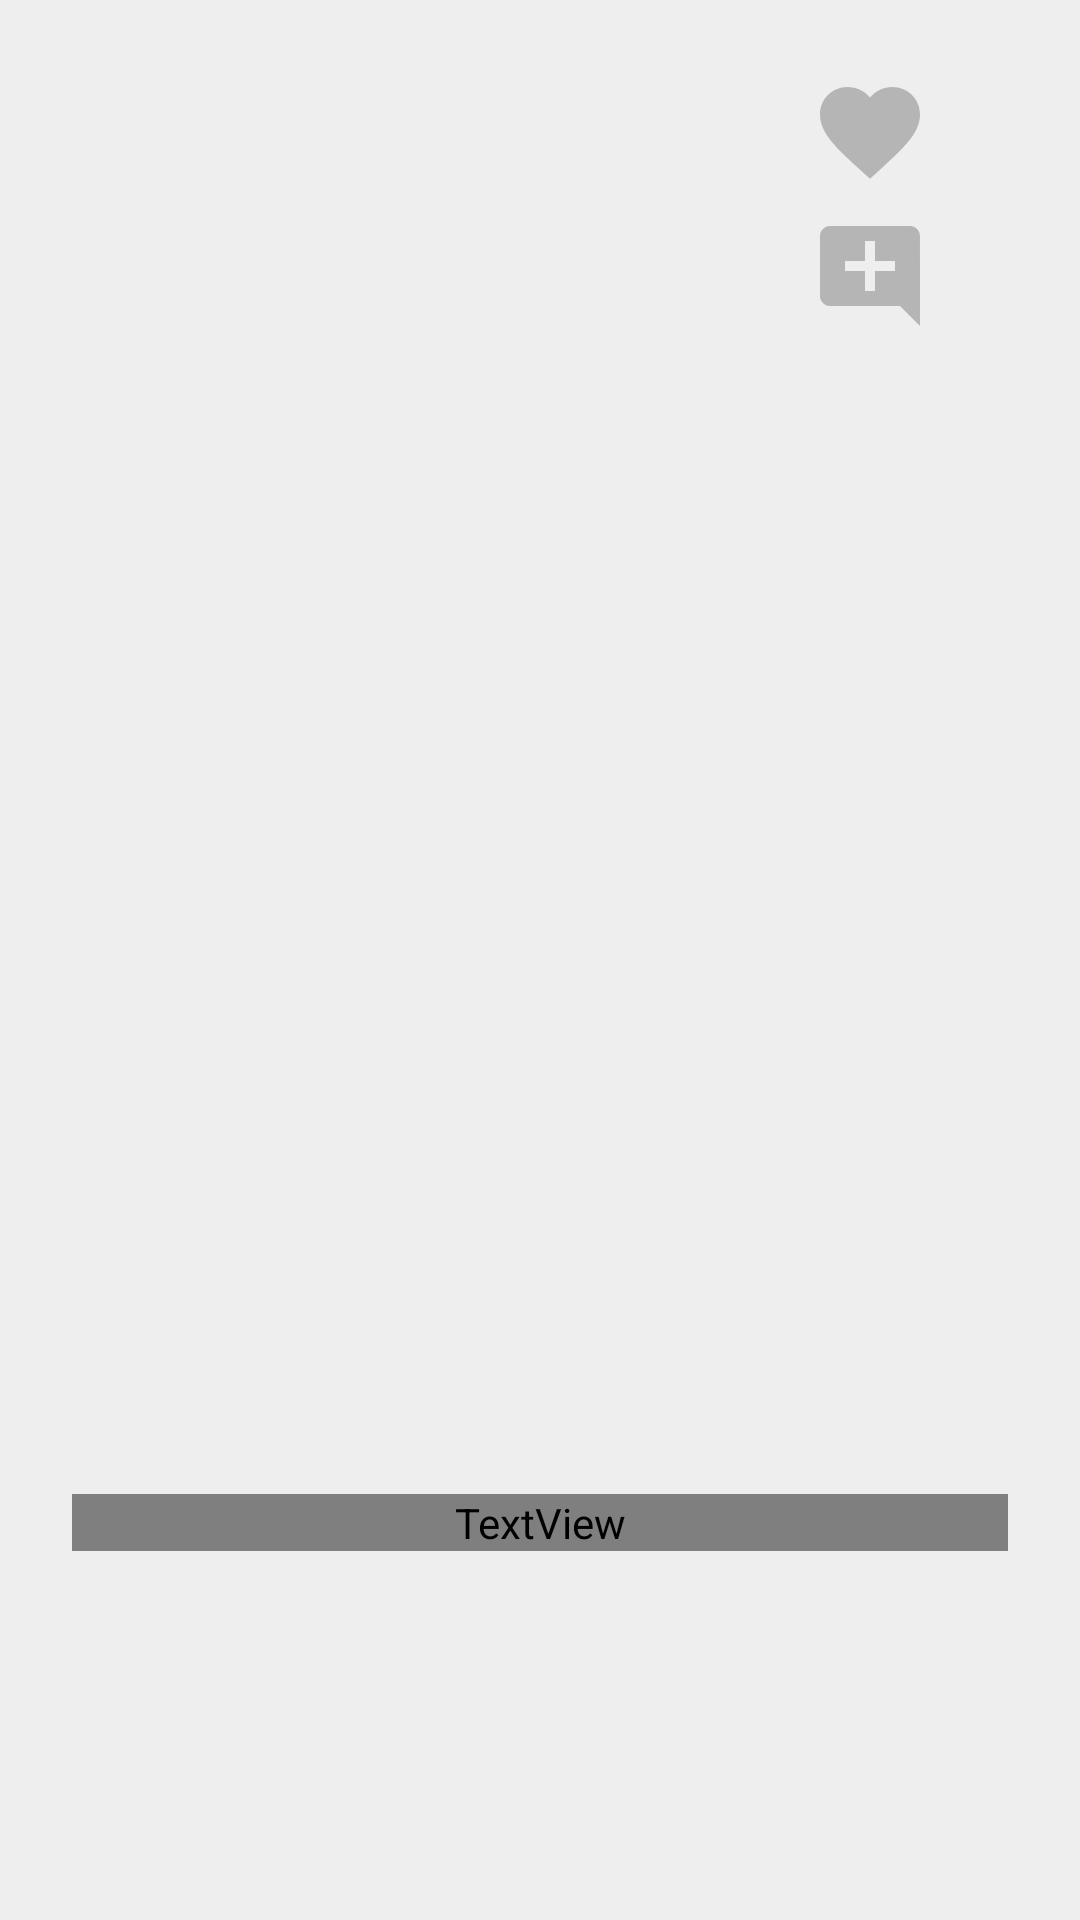

Icon click points for this 1080px x 1920px phone screenshot, format (x=x, y=y):
Add comment: (x=870, y=276)
Like: (x=870, y=132)
